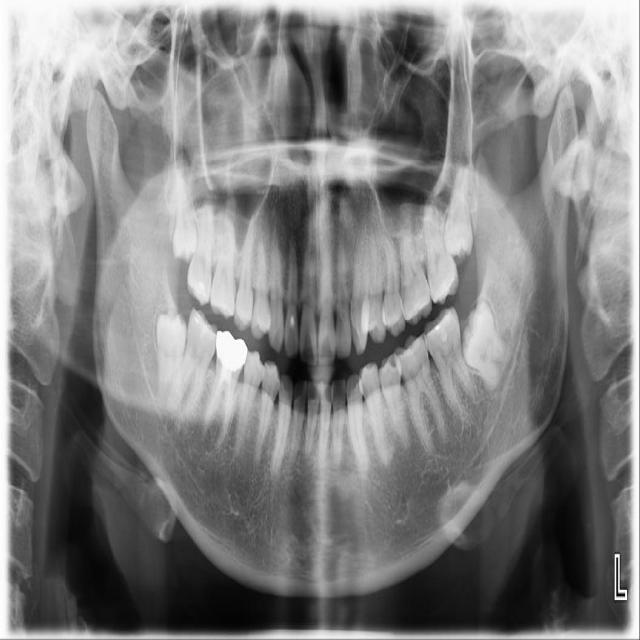3M ESPE Implant: (172, 162, 199, 264)
52: (411, 301, 474, 362), (172, 305, 233, 364), (204, 326, 256, 377), (422, 254, 465, 308), (185, 257, 214, 307), (284, 310, 299, 358)
73: (196, 363, 243, 450), (608, 588, 612, 594)
BioHorizons Implant: (419, 190, 461, 307)
BioLife Implant: (443, 165, 473, 258)
Biomet 3i Implant: (444, 299, 524, 395)
Blue Sky Bio Implant: (418, 304, 483, 426)
Caries: (184, 190, 222, 306)
Implant: (161, 307, 226, 427)
Keystone Dental Implant: (156, 308, 187, 413)
